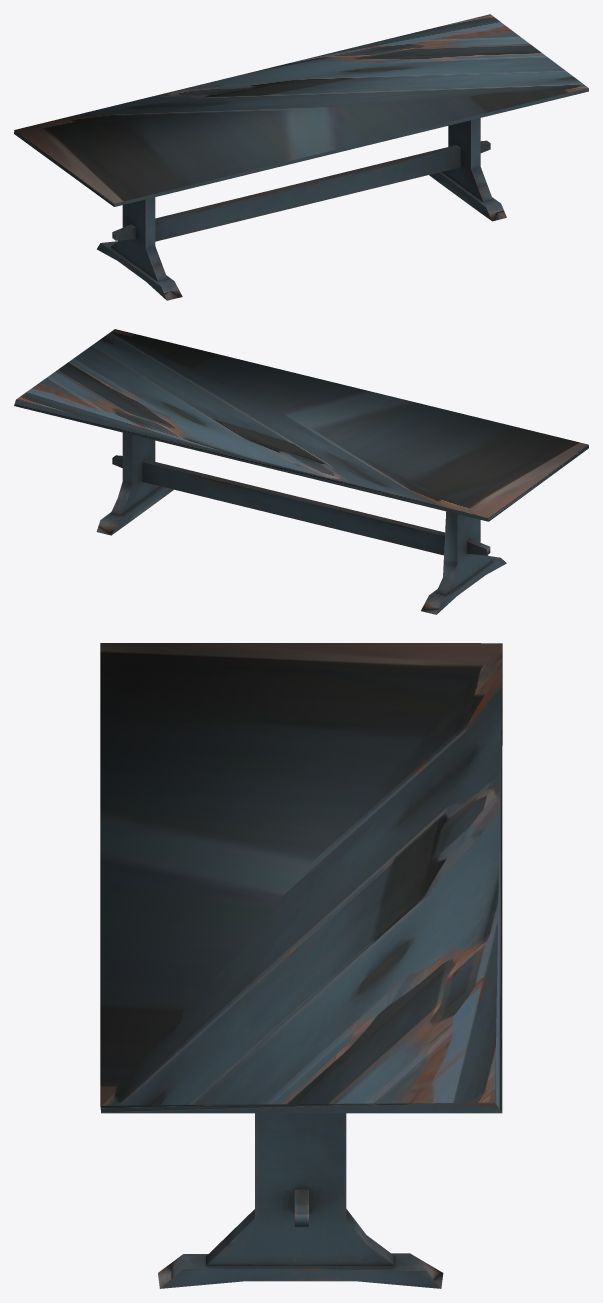
File: painted_wooden_table_lod2.glb
3 views of the same model, one above another, from view 1: azimuth 30°, elevation 25°; view 2: azimuth 150°, elevation 25°; view 3: azimuth 270°, elevation 25° (orthographic). The views are drawn at different scales.
Parts seen in each view (by area): view 1: painted_wooden_table; view 2: painted_wooden_table; view 3: painted_wooden_table.
Boxes of the visible parts, box(x1,y1,x2,y2) form: painted_wooden_table: box(14, 14, 588, 300); painted_wooden_table: box(14, 329, 588, 614); painted_wooden_table: box(100, 643, 502, 1288).
Bounding box in the file's own units: 3 × 0.7591 × 1.1.
Materials: 1 (1 with a texture image).
